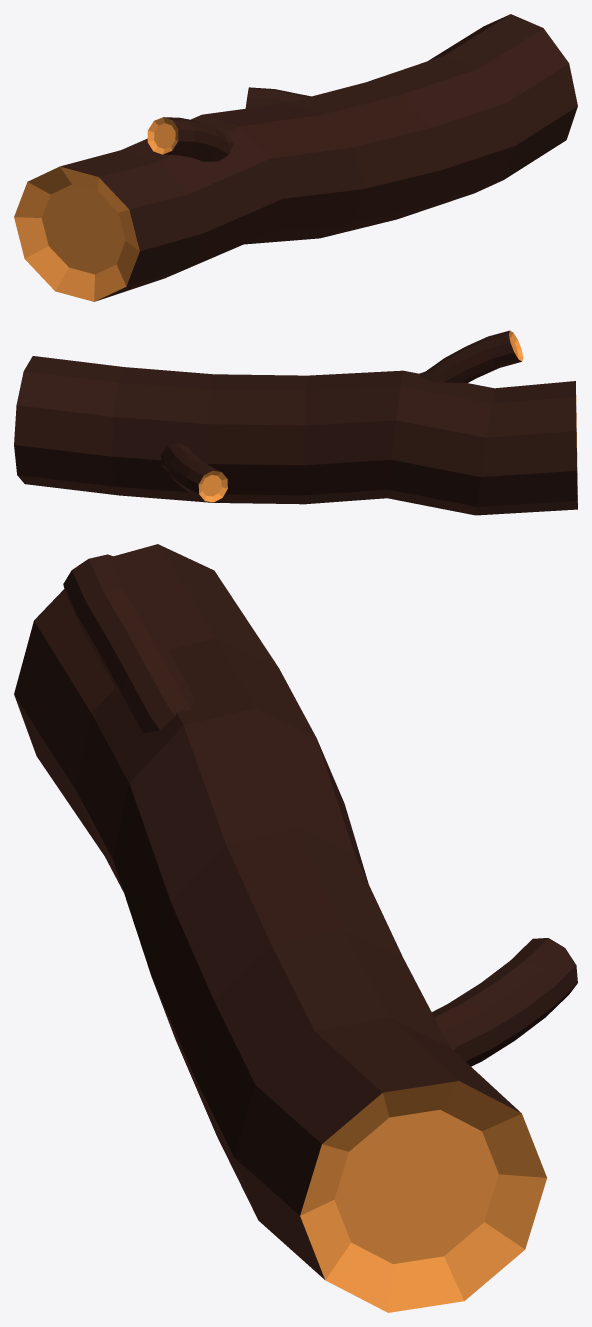
File: CIOCCO_2.fbx
3 views of the same model, one above another, from view 1: azimuth 30°, elevation 25°; view 2: azimuth 150°, elevation 25°; view 3: azimuth 270°, elevation 25° (orthographic). The views are drawn at different scales.
Visible parts, largest first — view 1: group1139732488; view 2: group1139732488; view 3: group1139732488.
Part boxes in pixels (left/top/right/bottom): group1139732488: left=14, top=14, right=577, bottom=301; group1139732488: left=14, top=330, right=577, bottom=515; group1139732488: left=14, top=544, right=577, bottom=1312.
Size of the model in its own units: 0.6472 by 0.2236 by 0.3052.
